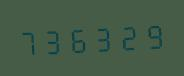nine: (143, 17, 167, 52)
seven: (17, 23, 41, 58)
six: (68, 21, 92, 55)
three: (42, 22, 66, 57), (93, 19, 117, 54)
two: (118, 18, 142, 53)
